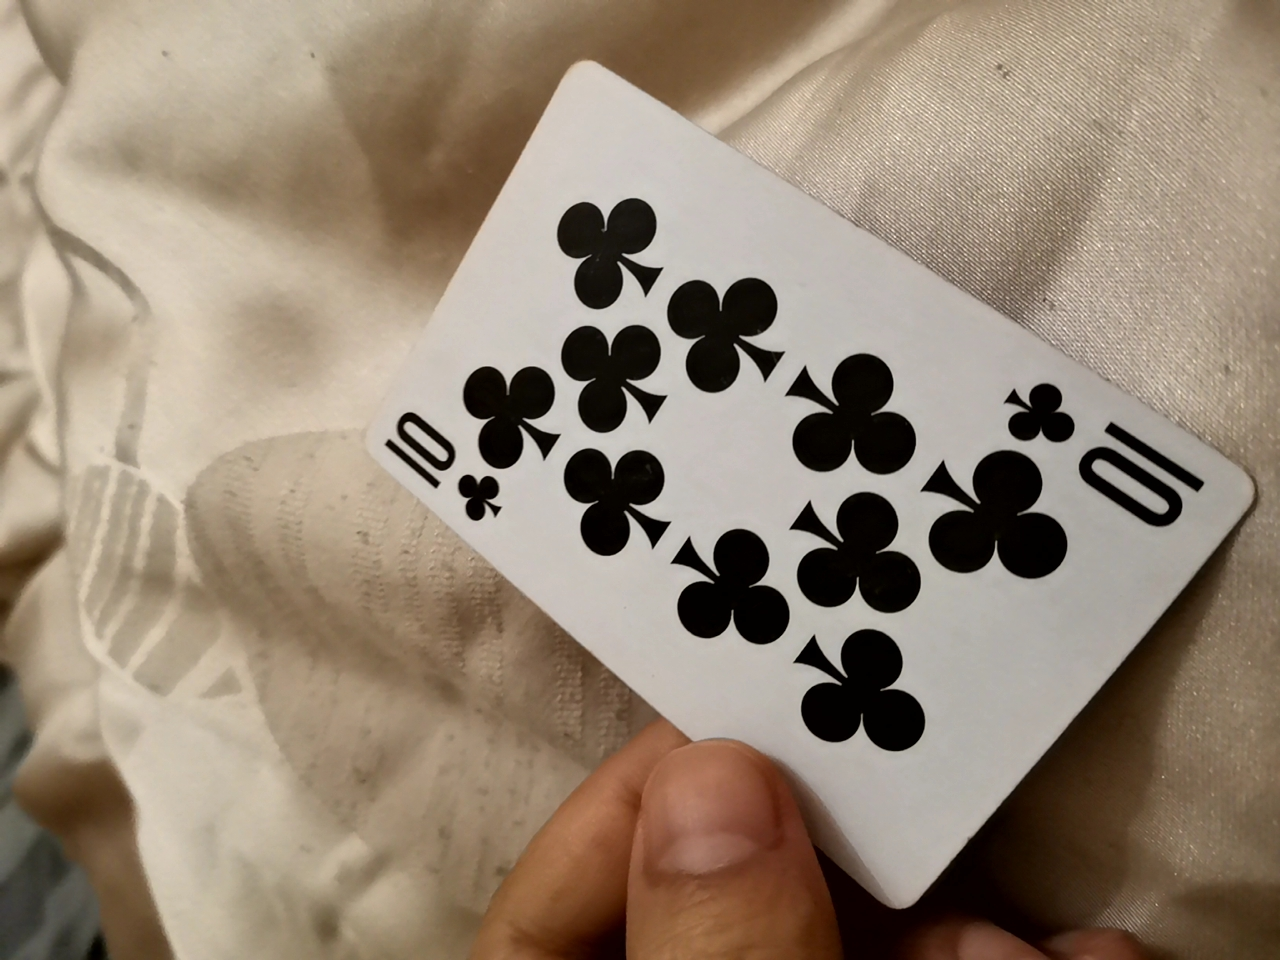mh 10: (359, 52, 1225, 906)
